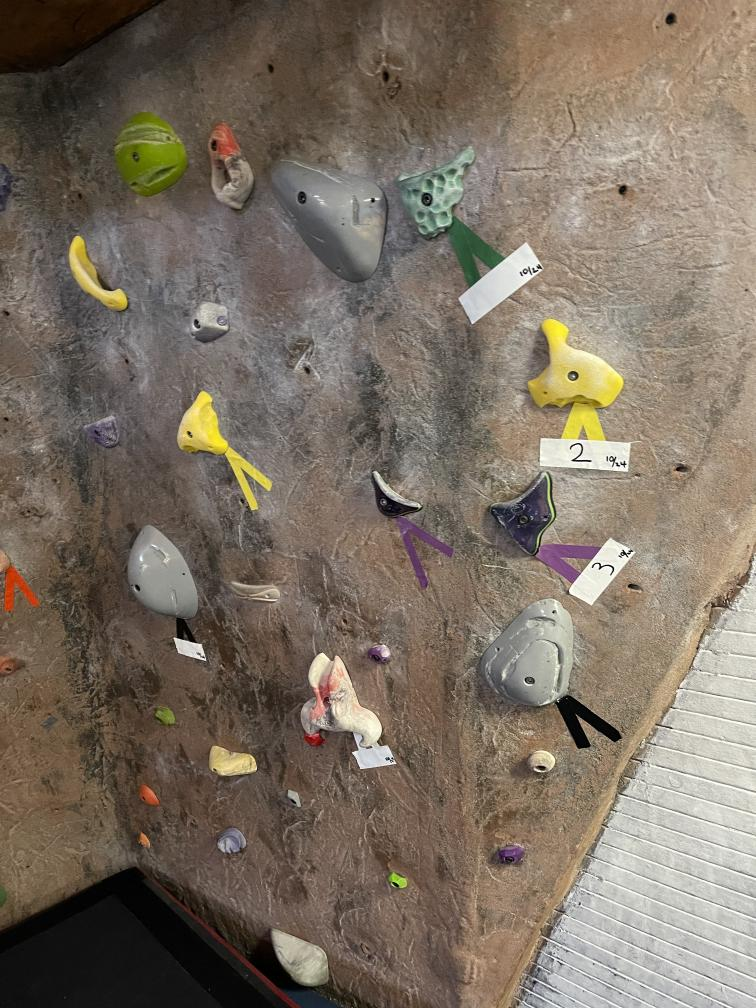Crimp: (478, 596, 576, 712), (393, 146, 476, 248), (367, 469, 423, 520), (184, 300, 231, 344), (136, 832, 154, 852)
Edges: (260, 156, 392, 292), (124, 520, 201, 628), (101, 116, 196, 202), (227, 578, 280, 609)
Foothold: (260, 923, 341, 995), (202, 744, 264, 782), (80, 413, 123, 454), (523, 744, 561, 787), (484, 840, 528, 873), (134, 776, 165, 810), (213, 826, 249, 855), (364, 642, 396, 674), (150, 698, 180, 730), (383, 872, 410, 894), (282, 790, 302, 808)
Jug: (299, 651, 384, 754), (54, 232, 138, 325)
Pinch: (526, 316, 628, 422), (160, 390, 235, 460)
Pocket: (484, 470, 559, 561), (204, 121, 255, 218)
